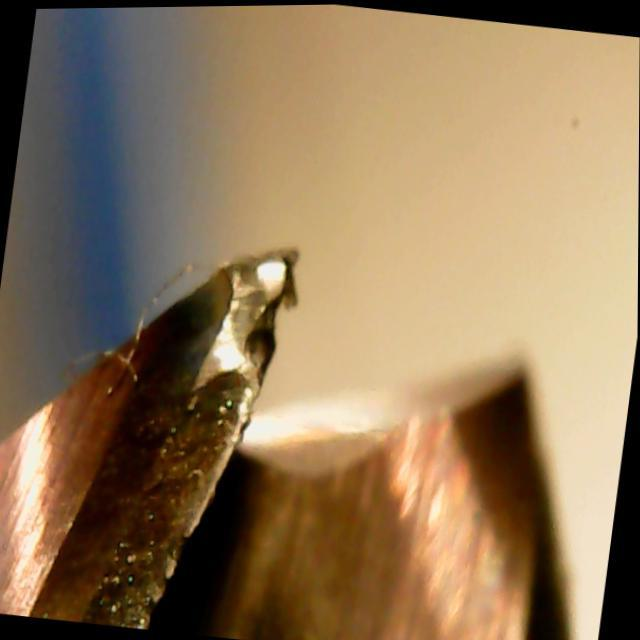Tool-wear-class-2: (65, 223, 311, 601)
